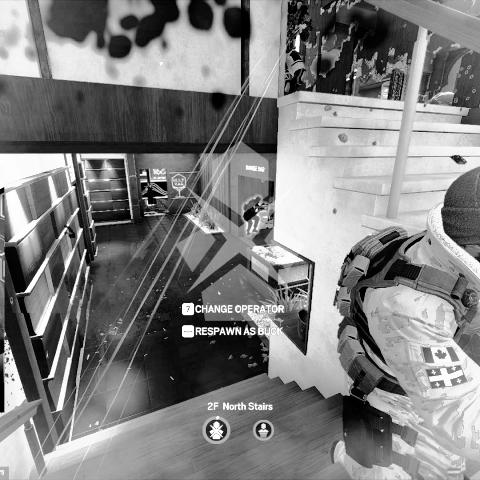Character: (322, 180, 479, 480), (284, 1, 315, 93), (243, 194, 270, 237)
Head: (436, 158, 480, 266), (255, 195, 262, 204)
